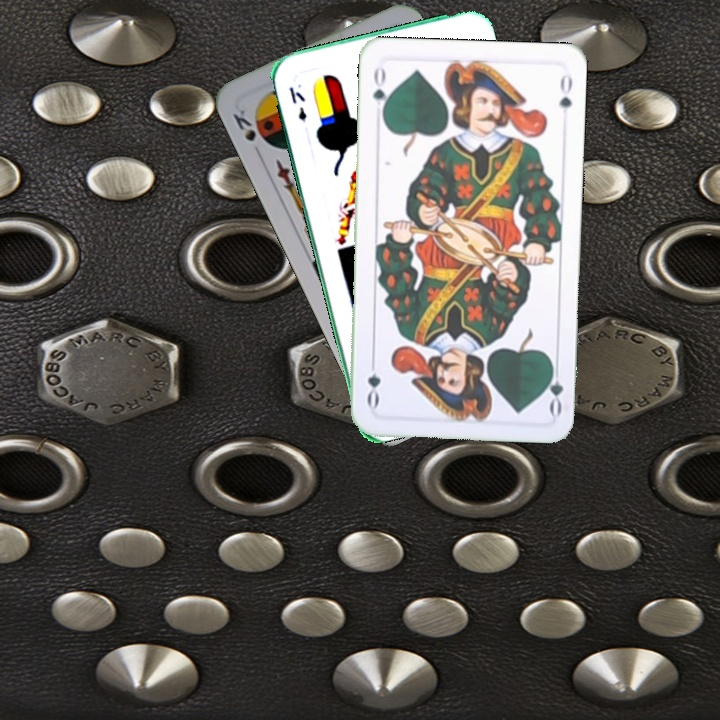EK: (284, 83, 310, 124)
GO: (540, 358, 566, 417), (368, 64, 392, 121)
SK: (229, 105, 259, 144)
